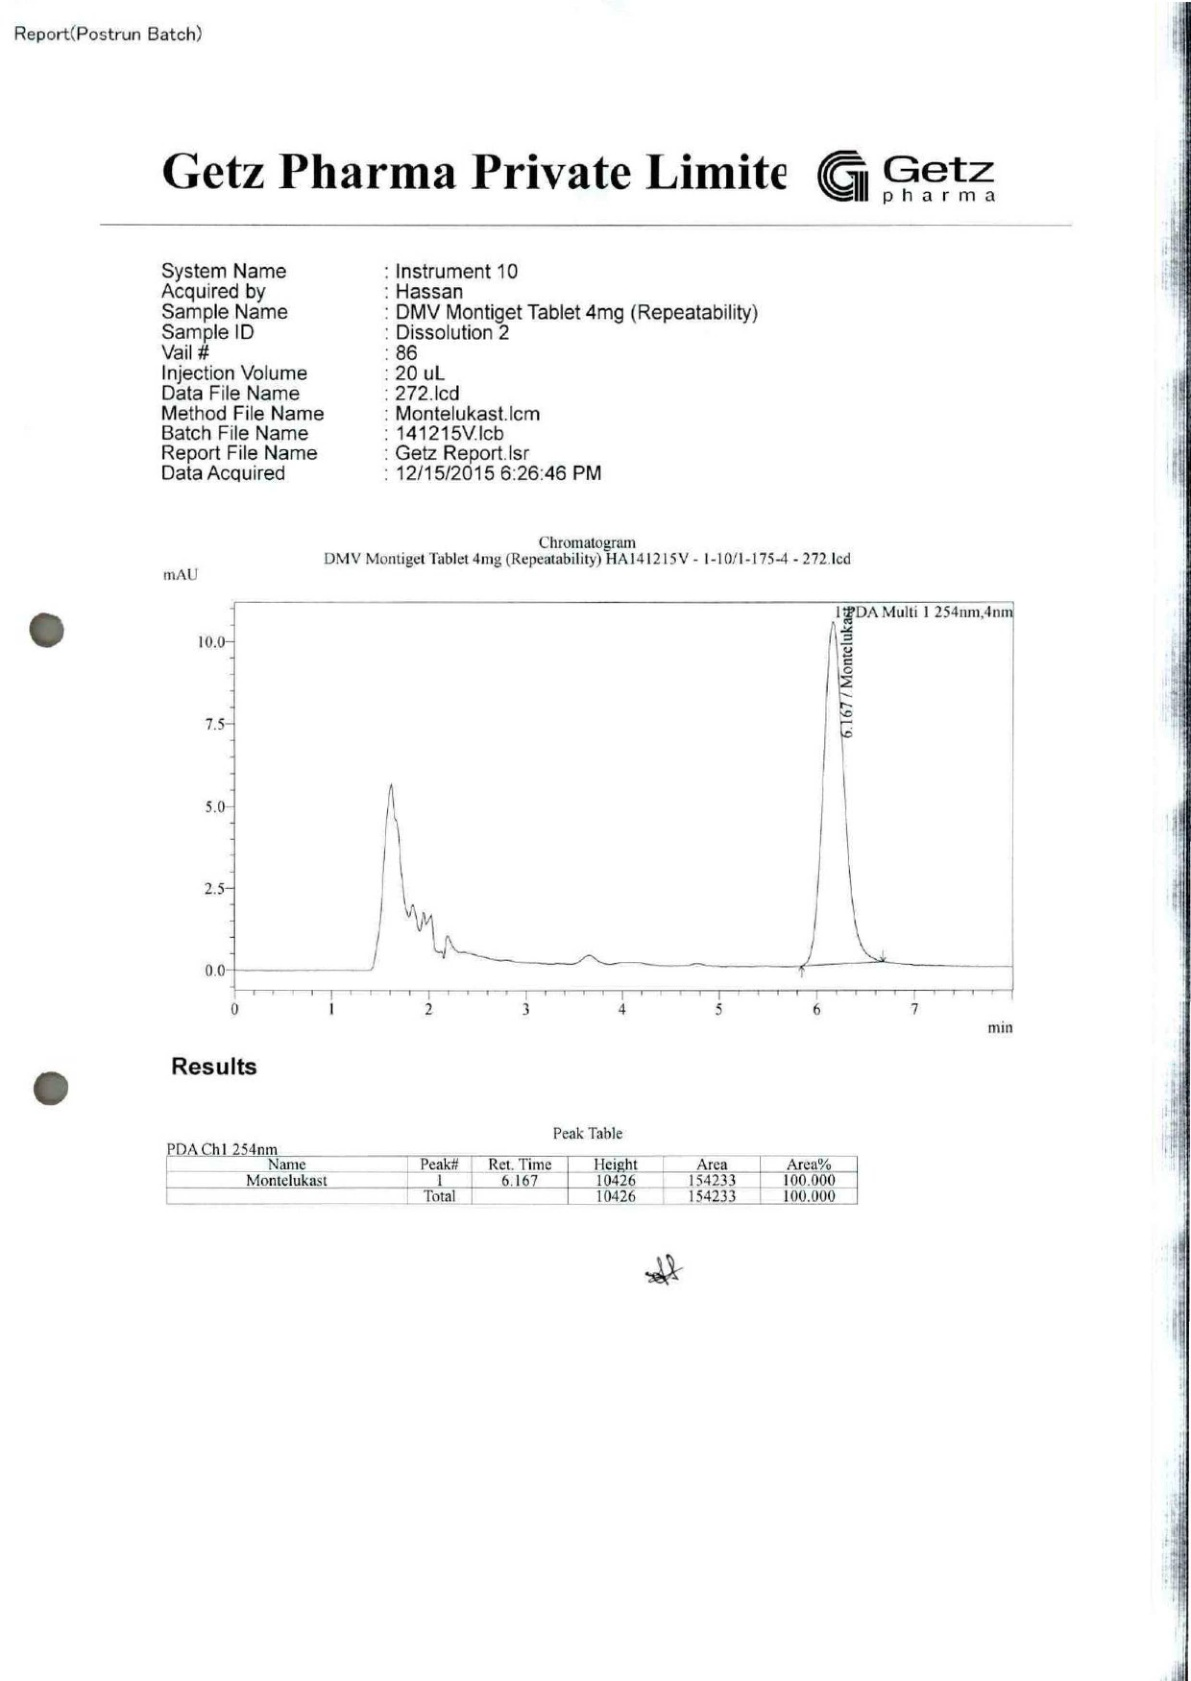full_lined: (165, 1154, 858, 1207)
nolines: (159, 260, 760, 483)
